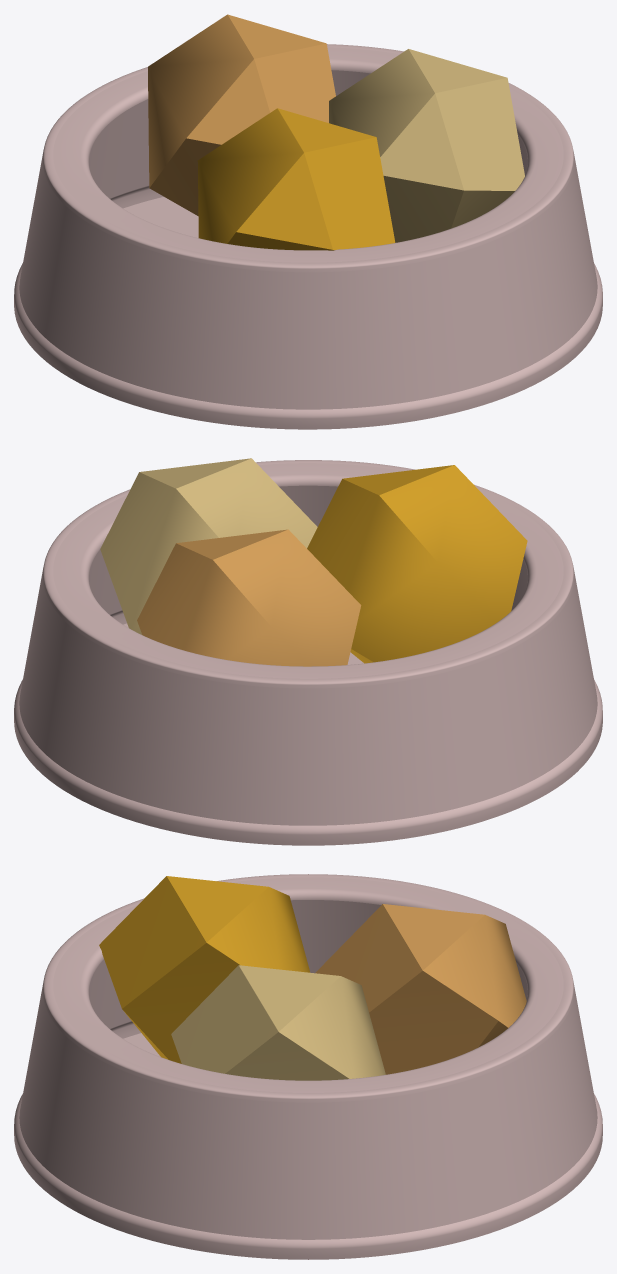
Rendered from foodbowl.fbx.
3 renders of one model, top to bottom at view 1: azimuth 30°, elevation 25°; view 2: azimuth 150°, elevation 25°; view 3: azimuth 270°, elevation 25°, orthographic.
Visible parts, largest first — view 1: bowl, kibble_2, kibble_3, kibble_1; view 2: bowl, kibble_3, kibble_1, kibble_2; view 3: bowl, kibble_1, kibble_3, kibble_2.
Part boxes in pixels (<box>): bowl: <box>14,44,602,429</box>; kibble_2: <box>329,49,524,242</box>; kibble_3: <box>197,108,395,250</box>; kibble_1: <box>148,14,335,215</box>; bowl: <box>14,460,602,845</box>; kibble_3: <box>307,465,527,663</box>; kibble_1: <box>137,529,361,666</box>; kibble_2: <box>100,458,317,634</box>; bowl: <box>14,874,602,1259</box>; kibble_1: <box>315,904,526,1074</box>; kibble_3: <box>99,876,310,1063</box>; kibble_2: <box>171,965,385,1080</box>.
Size of the model in its own units: 410 by 172 by 410.
